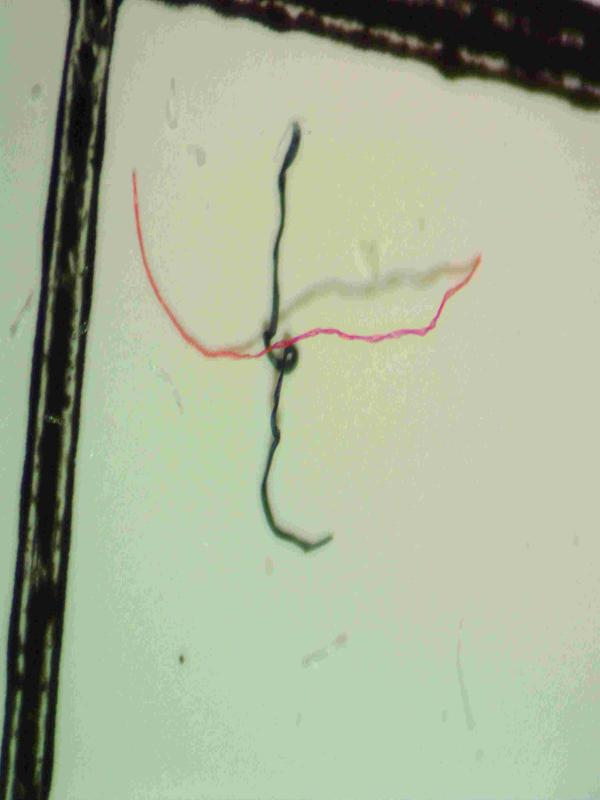microplastic: (2, 2, 598, 797), (130, 115, 483, 554)
